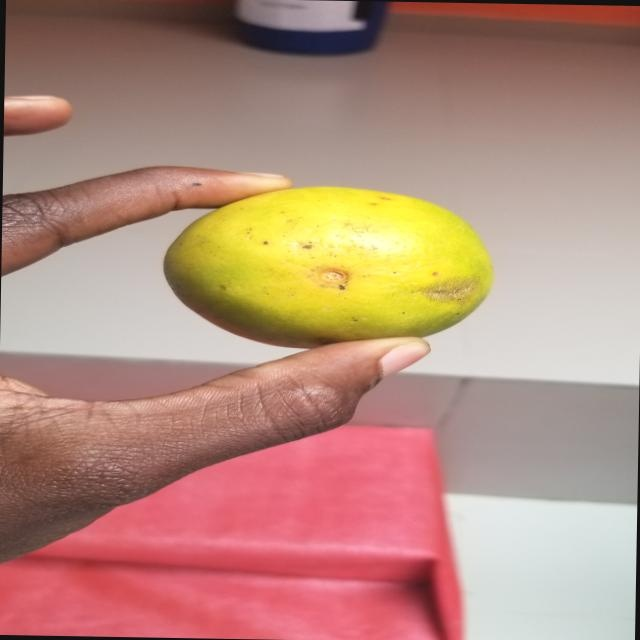agrume: (144, 177, 508, 352)
